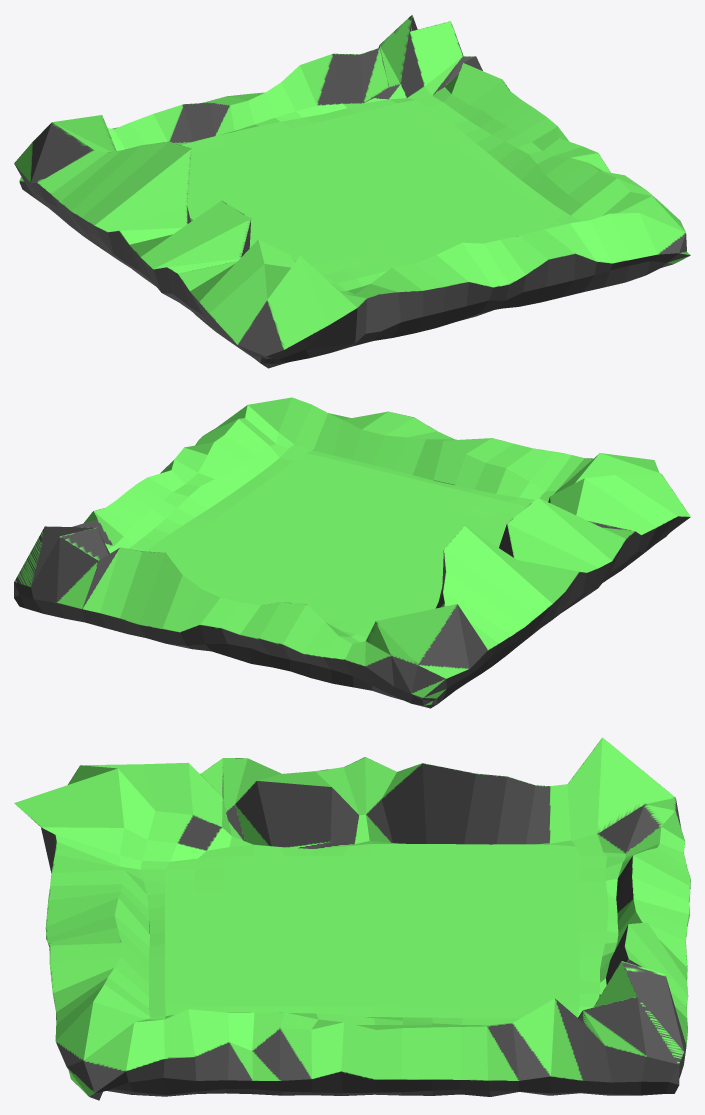
File: BuildingNature.fbx
The picture shows the model from 3 angles, top to bottom: view 1: azimuth 30°, elevation 25°; view 2: azimuth 150°, elevation 25°; view 3: azimuth 270°, elevation 25°; orthographic projection. The views are drawn at different scales.
Parts seen in each view (by area): view 1: Plane; view 2: Plane; view 3: Plane.
Part boxes in pixels (bbox=[...]): Plane: bbox=[14, 15, 690, 368]; Plane: bbox=[14, 397, 690, 708]; Plane: bbox=[14, 737, 690, 1100].
Size of the model in its own units: 2951 by 648 by 3011.
Materials: 1 (1 with a texture image).
